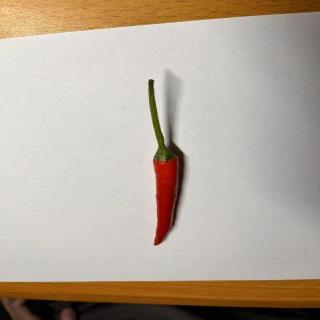Cabai Merah: (148, 80, 180, 247)
